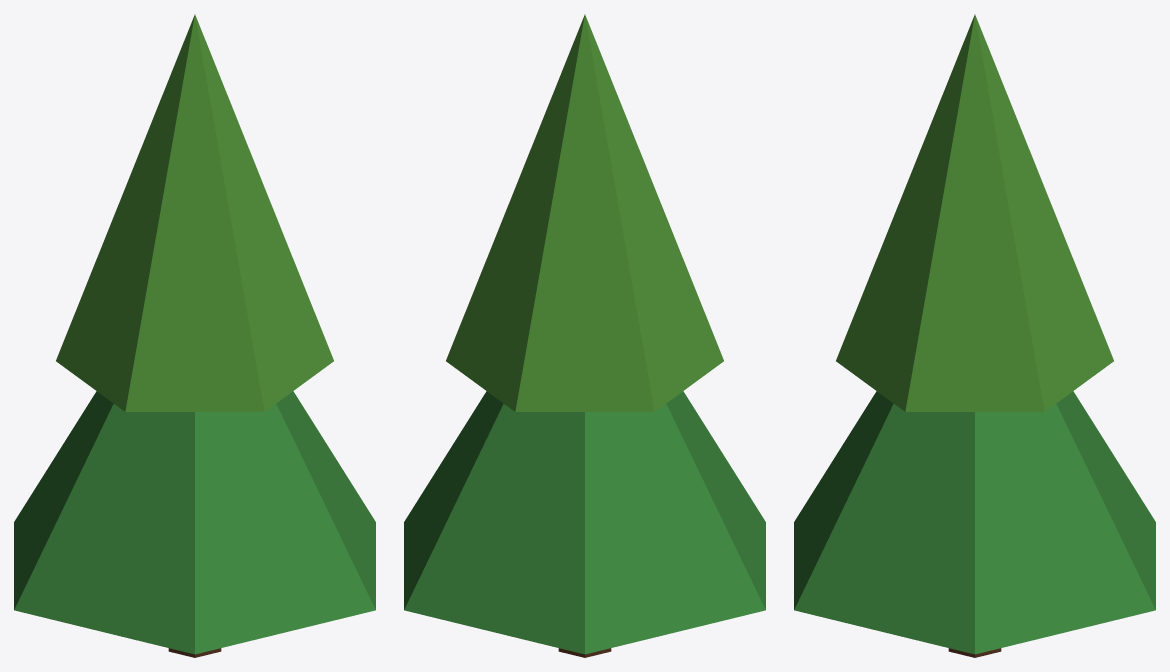
File: Tree9.fbx
3 views of the same model, side by side, from view 1: azimuth 30°, elevation 25°; view 2: azimuth 150°, elevation 25°; view 3: azimuth 270°, elevation 25° (orthographic).
Parts seen in each view (by area): view 1: Tree9; view 2: Tree9; view 3: Tree9.
Part boxes in pixels (x1,y1,x2,y2): Tree9: [14, 14, 375, 657]; Tree9: [404, 14, 765, 657]; Tree9: [794, 14, 1155, 657].
Bounding box in the file's own units: 0.48 × 0.8 × 0.4157.
